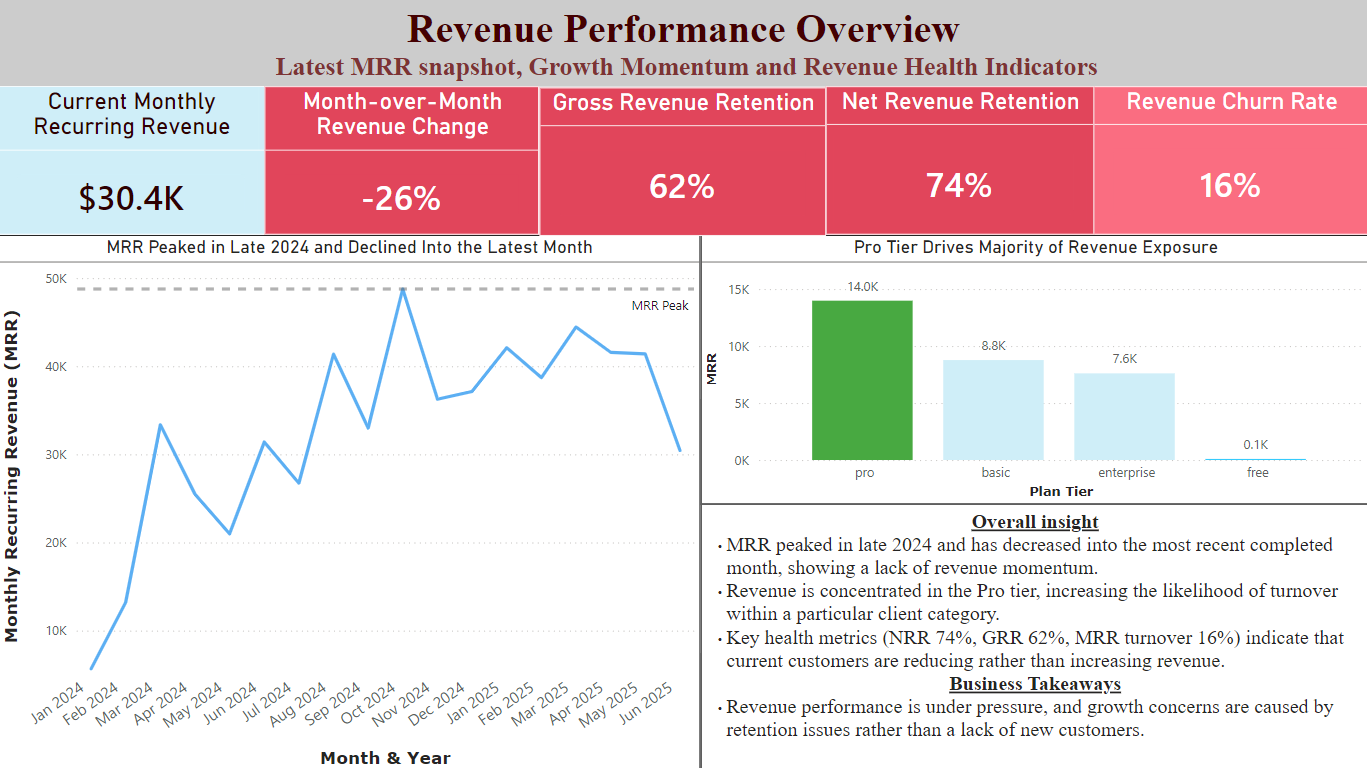

What the dashboard file says about the page in this screenshot:
{"tool":"powerbi","page":{"name":"EXECUTIVE OVERVIEW","canvas":[1280,720],"ordinal":0},"visuals":[{"type":"lineChart","title":"MRR Peaked in Late 2024 and Declined Into the Latest Month","fields":{"Category":["Date.Month Year"],"Y":["Date.MRR"]},"box":[0,218.8,656.2,501.2],"z":0},{"type":"clusteredColumnChart","title":"Pro Tier Drives Majority of Revenue Exposure","fields":{"Category":["plans.tier"],"Y":["Date.MRR"]},"box":[656.2,218.8,623.8,251.2],"z":1000},{"type":"textbox","box":[0,0,1280.3,80.7],"z":2000},{"type":"cardVisual","title":"Current Monthly Recurring Revenue","fields":{"Data":["Date.MRR (Latest)"]},"box":[0,80,250,138.8],"z":4000},{"type":"cardVisual","title":"Month-over-Month Revenue Change","fields":{"Data":["Date.MRR Growth % (Latest)"]},"box":[250,80,256.2,138.8],"z":5000},{"type":"cardVisual","title":"Revenue Churn Rate","fields":{"Data":["Date.MRR Churn Rate"]},"box":[1022.5,80,257.5,138.8],"z":6000},{"type":"cardVisual","title":"Gross Revenue Retention","fields":{"Data":["Date.GRR"]},"box":[506.2,81.2,267.5,138.8],"z":7000},{"type":"cardVisual","title":"Net Revenue Retention","fields":{"Data":["Date.NRR"]},"box":[772.5,80,250,138.8],"z":8000},{"type":"textbox","box":[656.2,470,623.8,250],"z":9000}]}

Visuals, with their boxes in screenshot pixels (x1, y1, x2, y2), scaled from the page's 1280x720 canvas onto the 1367x768 screenshot:
"MRR Peaked in Late 2024 and Declined Into the Latest Month" lineChart: select_region(0, 233, 701, 767)
"Pro Tier Drives Majority of Revenue Exposure" clusteredColumnChart: select_region(701, 233, 1366, 501)
textbox: select_region(0, 0, 1366, 86)
"Current Monthly Recurring Revenue" cardVisual: select_region(0, 85, 267, 233)
"Month-over-Month Revenue Change" cardVisual: select_region(267, 85, 541, 233)
"Revenue Churn Rate" cardVisual: select_region(1092, 85, 1366, 233)
"Gross Revenue Retention" cardVisual: select_region(541, 87, 826, 235)
"Net Revenue Retention" cardVisual: select_region(825, 85, 1092, 233)
textbox: select_region(701, 501, 1366, 767)
